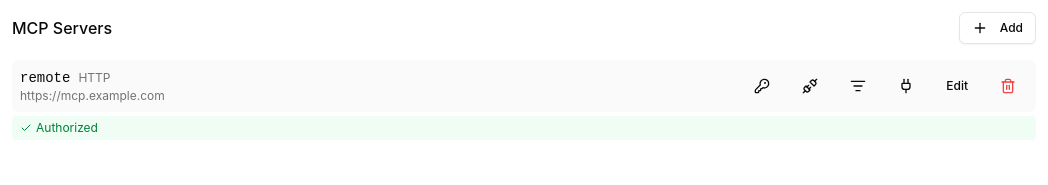
Test case: McpServerSection › shows why an OAuth connect failed and clears it on retry
This screenshot has width=1048, height=185.
What coordinates should you click on to do the following:
click the button titled "Re-authorize with OAuth"
I would click on:
 (762, 86)
Its box is [742,70,782,102].
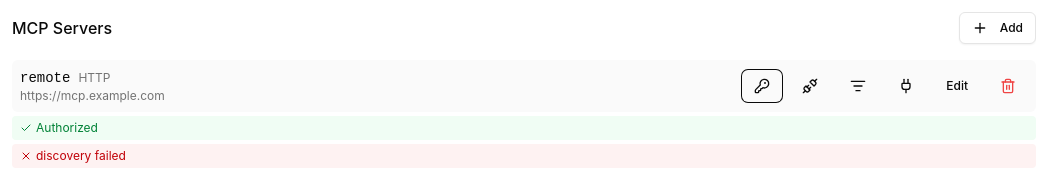
Check: the text "discovery failed" is shown, box [12,144,1036,168]
What coordinates should you click on to do the following:
click the button titled "Re-authorize with OAuth"
I would click on:
 (762, 86)
Its box is [742,70,782,102].
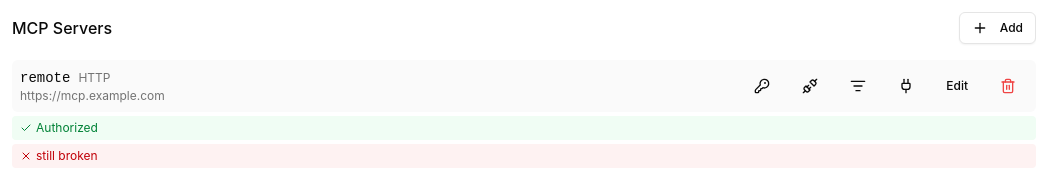
Check: the text "discovery failed" is gone
Check: the text "still broken" is shown, box [12,144,1036,168]
